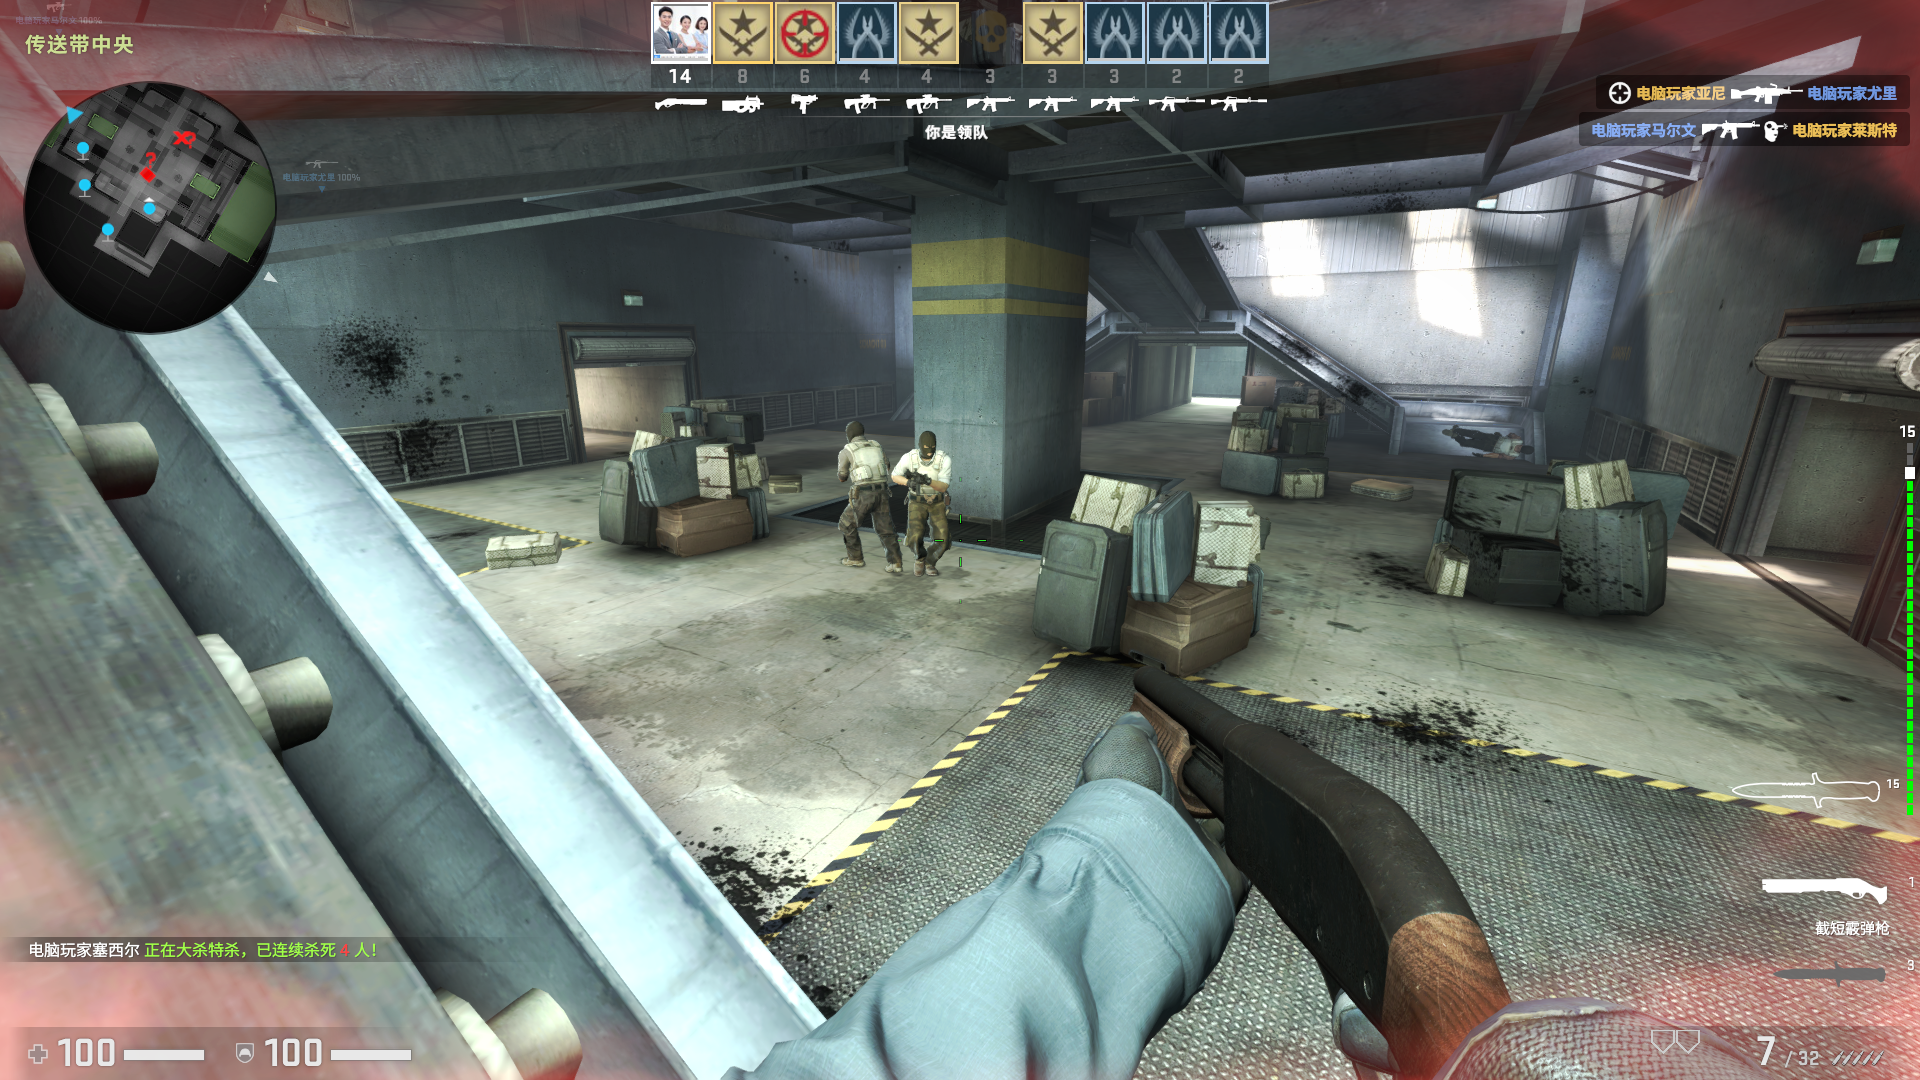person: (893, 427, 961, 577), (835, 419, 901, 572)
